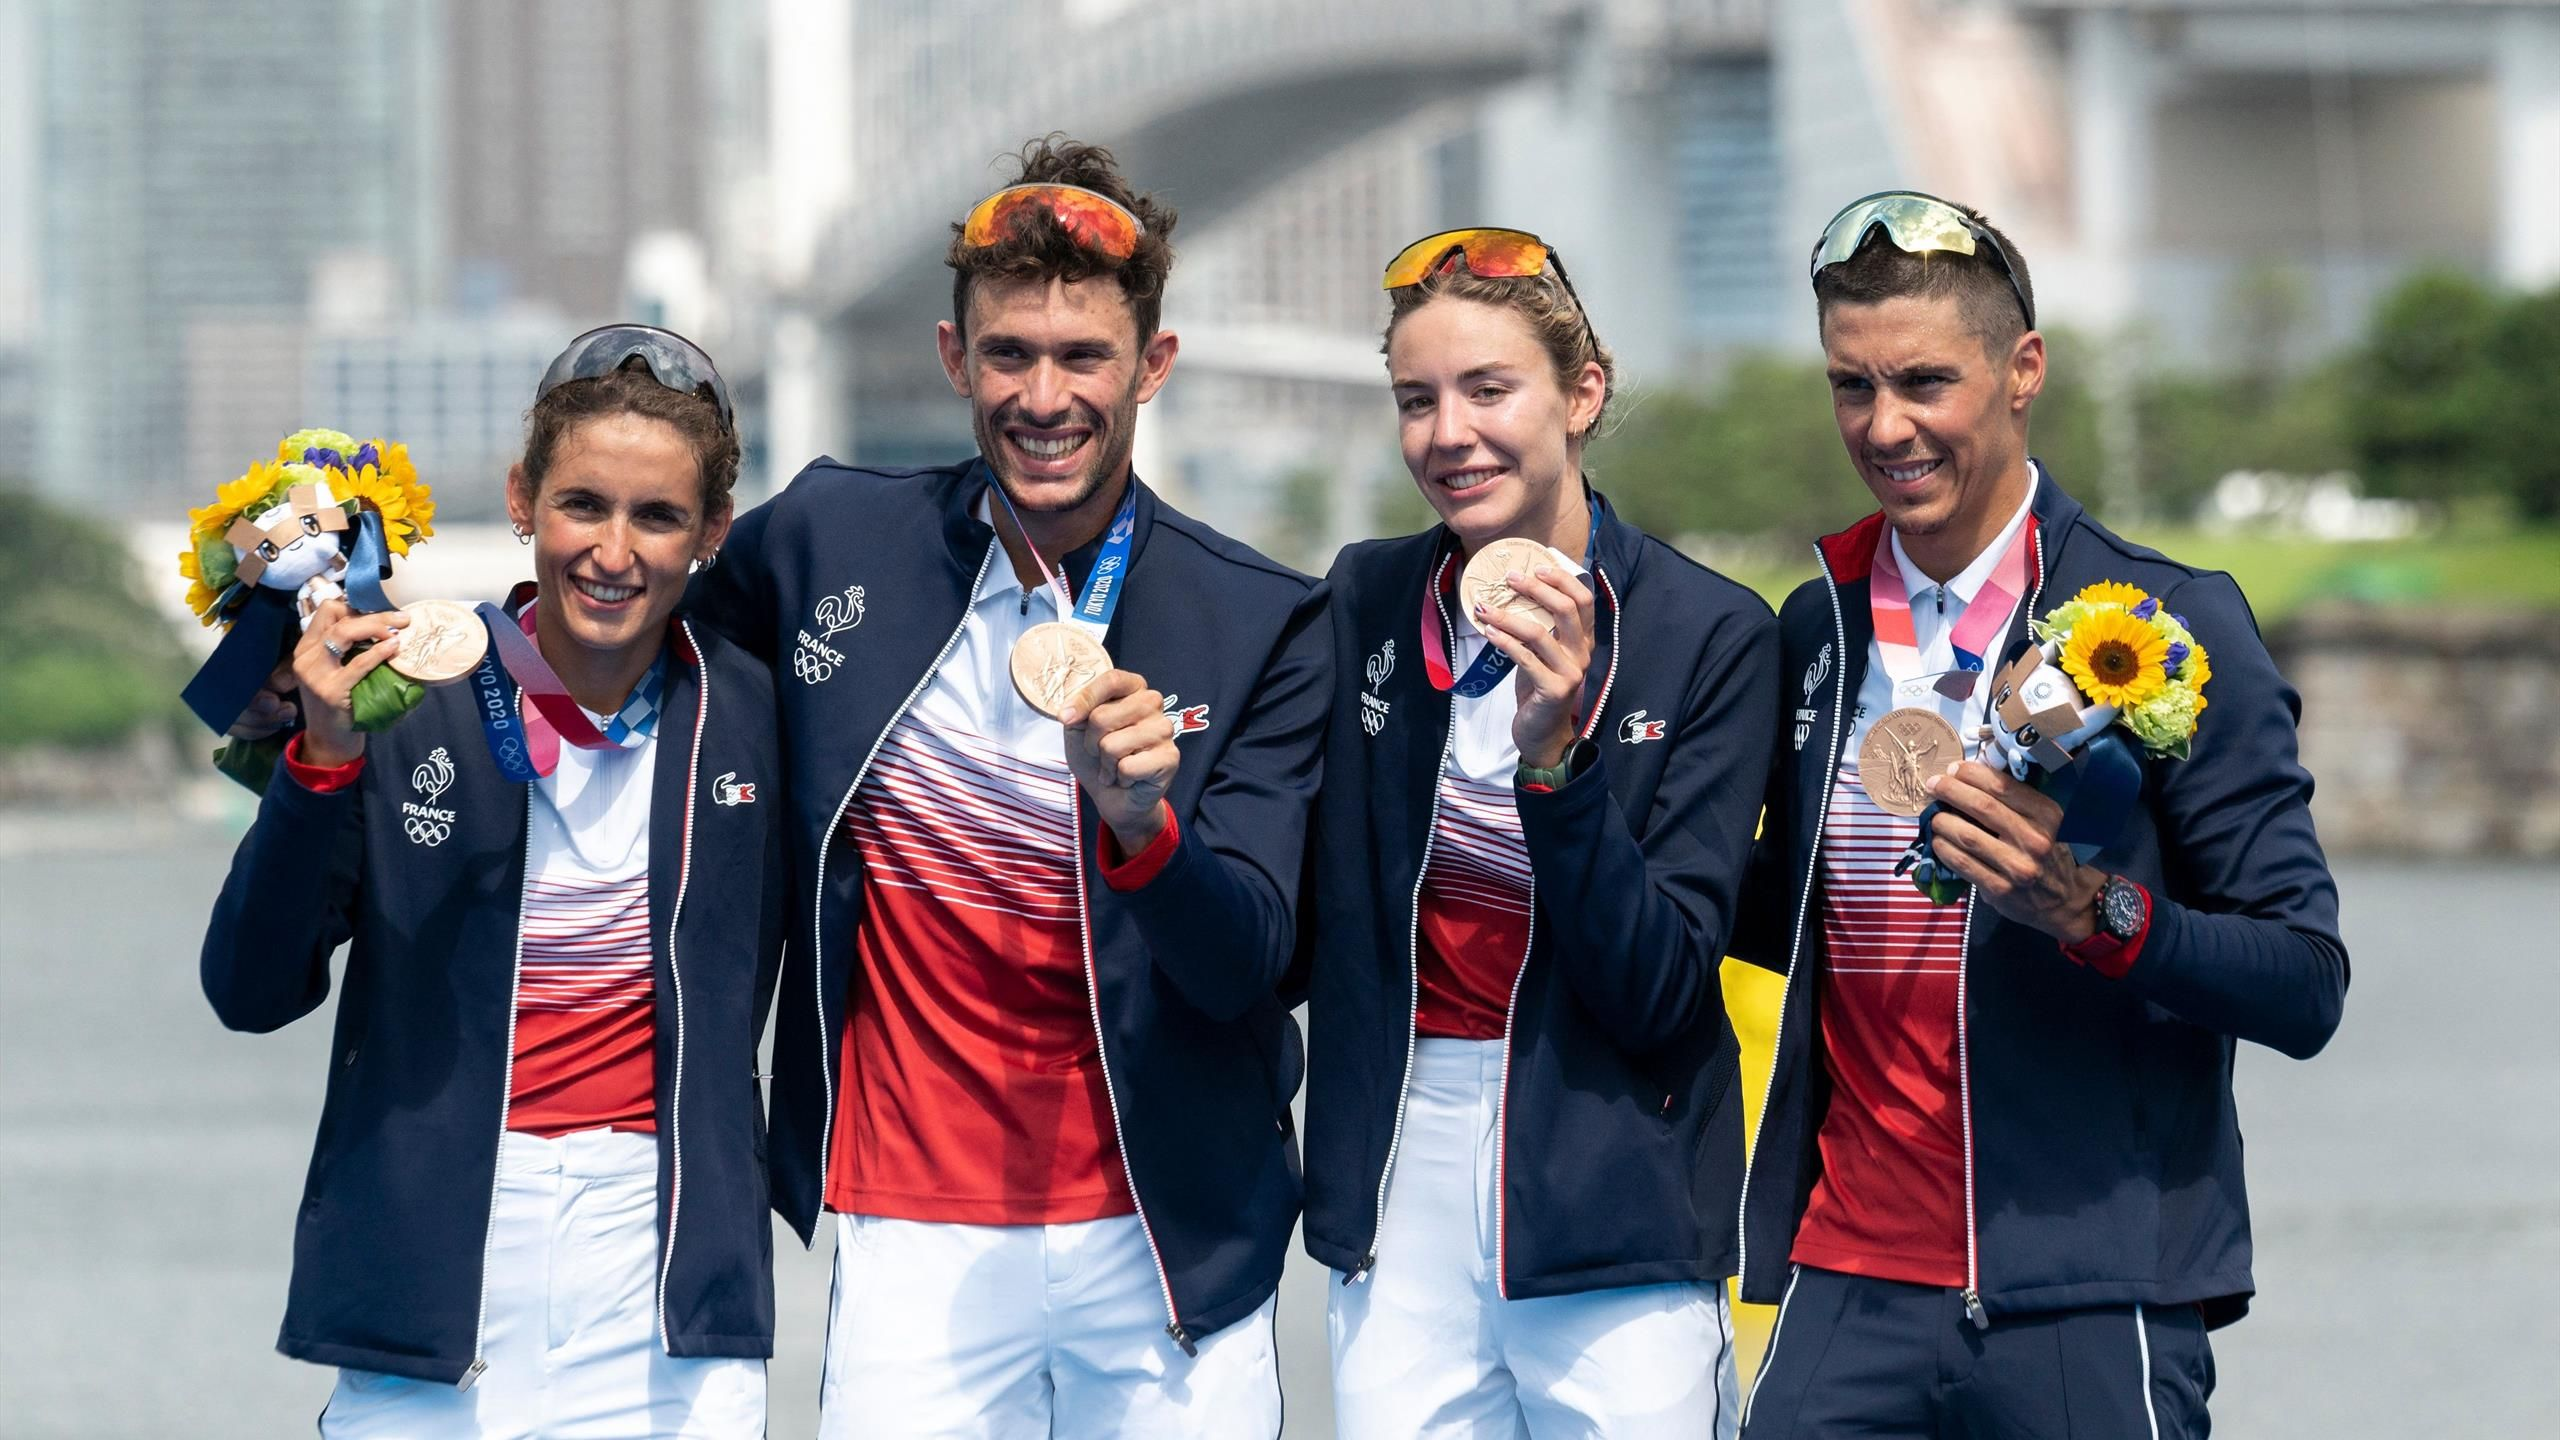without_mask: (972, 313, 1130, 497), (1408, 338, 1553, 525), (1840, 335, 1985, 518), (553, 462, 695, 640)
